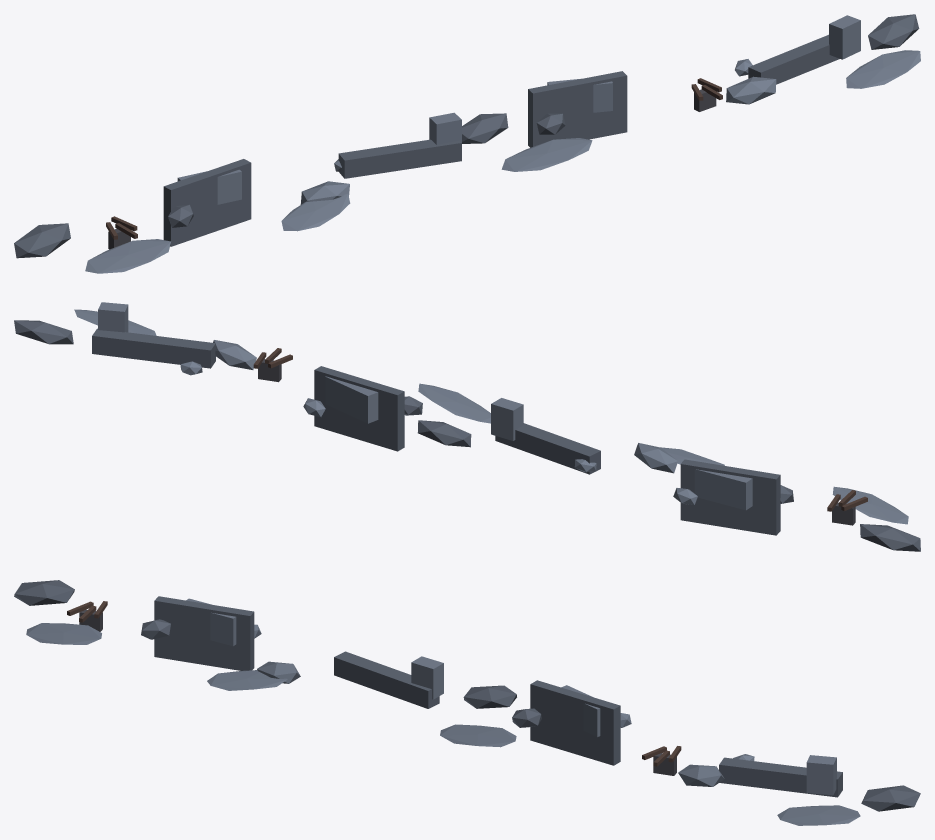
Rendered from exterior_courtyard_dressing_v1.glb.
3 renders of one model, top to bottom at view 1: azimuth 30°, elevation 25°; view 2: azimuth 150°, elevation 25°; view 3: azimuth 330°, elevation 25°, orthographic.
Parts seen in each view (by area): view 1: EXTC_CollapsedPlinth_01, EXTC_CollapsedPlinth_00, EXTC_FallenColumn_00, EXTC_FallenColumn_01, EXTC_Paver_00, EXTC_Paver_02, EXTC_Paver_03, EXTC_Paver_01, EXTC_Rubble_00, EXTC_Rubble_04, EXTC_Rubble_02, EXTC_Rubble_03 (+3 smaller); view 2: EXTC_CollapsedPlinth_00, EXTC_CollapsedPlinth_01, EXTC_FallenColumn_01, EXTC_FallenColumn_00, EXTC_Paver_02, EXTC_Rubble_00, EXTC_Paver_00, EXTC_Rubble_04, EXTC_Rubble_02, EXTC_Rubble_03, EXTC_Rubble_01, EXTC_ThornCluster_00 (+1 smaller); view 3: EXTC_CollapsedPlinth_00, EXTC_CollapsedPlinth_01, EXTC_FallenColumn_01, EXTC_FallenColumn_00, EXTC_Paver_03, EXTC_Paver_00, EXTC_Paver_02, EXTC_Rubble_00, EXTC_Rubble_04, EXTC_Paver_01, EXTC_Rubble_02, EXTC_Rubble_03 (+3 smaller).
Part boxes in pixels (box(x1,y1,x2,y2)): EXTC_CollapsedPlinth_01: box(528, 71, 627, 147); EXTC_CollapsedPlinth_00: box(163, 159, 251, 246); EXTC_FallenColumn_00: box(334, 112, 461, 178); EXTC_FallenColumn_01: box(735, 15, 860, 84); EXTC_Paver_00: box(85, 239, 170, 273); EXTC_Paver_02: box(501, 138, 592, 171); EXTC_Paver_03: box(846, 50, 920, 88); EXTC_Paver_01: box(281, 193, 350, 231); EXTC_Rubble_00: box(14, 223, 70, 258); EXTC_Rubble_04: box(868, 14, 919, 49); EXTC_Rubble_02: box(462, 113, 508, 143); EXTC_Rubble_03: box(726, 76, 776, 104); EXTC_CollapsedPlinth_00: box(673, 459, 793, 535); EXTC_CollapsedPlinth_01: box(303, 366, 422, 451); EXTC_FallenColumn_01: box(92, 302, 215, 375); EXTC_FallenColumn_00: box(491, 398, 600, 474); EXTC_Paver_02: box(418, 383, 490, 423); EXTC_Rubble_00: box(860, 524, 920, 551); EXTC_Paver_00: box(832, 486, 908, 524); EXTC_Rubble_04: box(14, 320, 73, 344); EXTC_Rubble_02: box(417, 420, 471, 447); EXTC_Rubble_03: box(213, 340, 256, 369); EXTC_Rubble_01: box(634, 443, 677, 473); EXTC_ThornCluster_00: box(827, 490, 867, 525); EXTC_CollapsedPlinth_00: box(141, 596, 261, 670); EXTC_CollapsedPlinth_01: box(512, 680, 631, 765); EXTC_FallenColumn_01: box(719, 754, 842, 797); EXTC_FallenColumn_00: box(334, 651, 443, 708); EXTC_Paver_03: box(777, 805, 860, 825); EXTC_Paver_00: box(26, 623, 101, 644); EXTC_Paver_02: box(440, 724, 516, 747); EXTC_Rubble_00: box(14, 580, 74, 605); EXTC_Rubble_04: box(861, 785, 920, 811); EXTC_Paver_01: box(207, 670, 287, 690); EXTC_Rubble_02: box(463, 685, 516, 708); EXTC_Rubble_03: box(678, 764, 724, 786).
Bounding box in the file's own units: 19.74 × 1.27 × 2.37.
